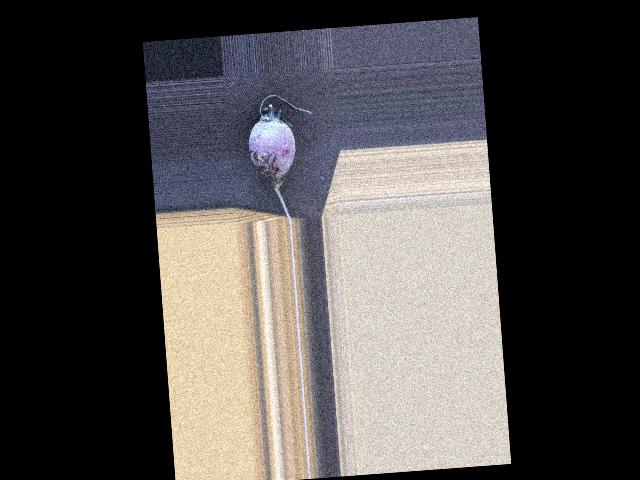beet: (244, 92, 319, 223)
